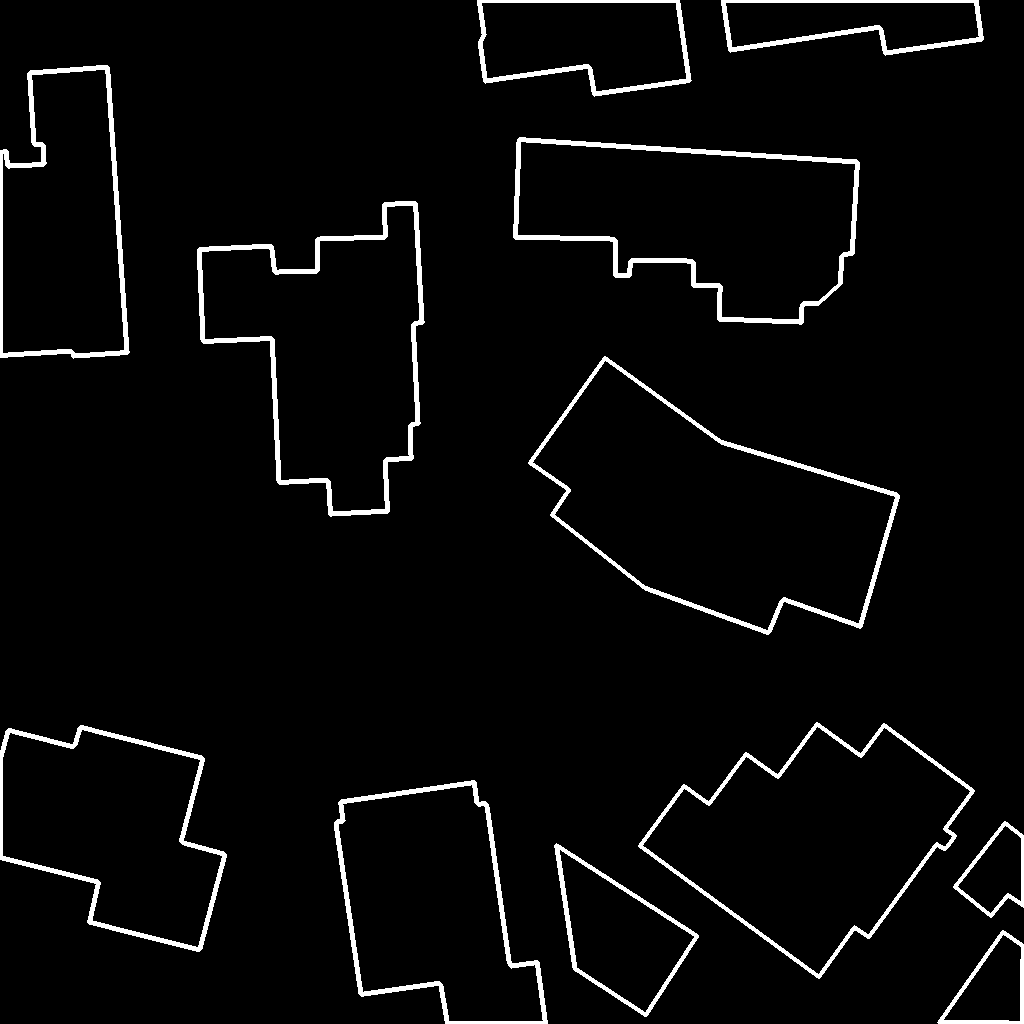building: (530, 358, 899, 634), (640, 724, 974, 978), (199, 203, 423, 515), (515, 139, 859, 323), (336, 782, 547, 1024), (0, 727, 226, 951), (0, 67, 128, 357), (556, 845, 698, 1016), (479, 0, 690, 95), (723, 0, 983, 54), (939, 932, 1024, 1024), (955, 823, 1024, 917)
